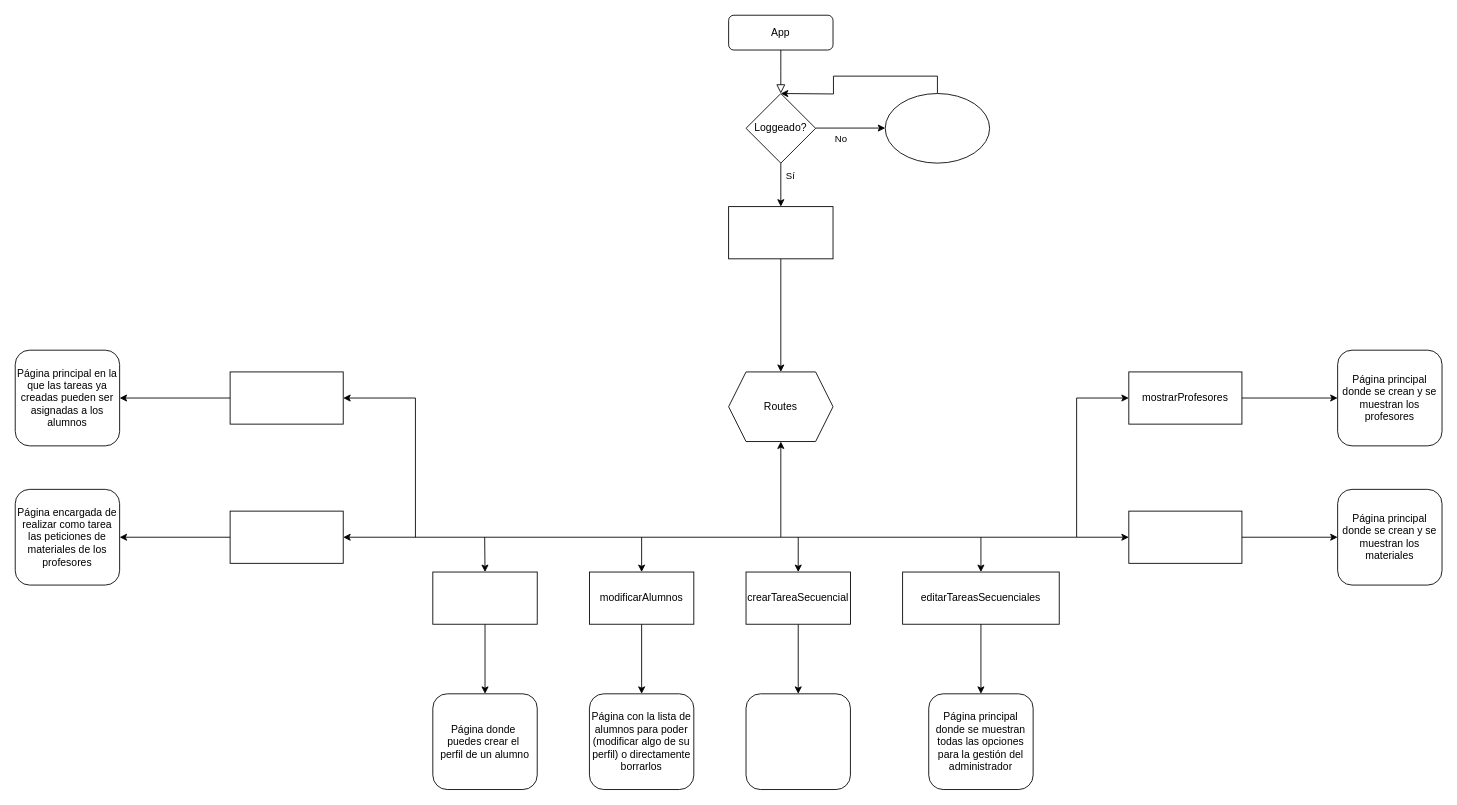
This 1457x805 diagram has some shape labels left out. Each missing label, with the box of its shape:
asignarTareasAlumnos: (229, 371, 343, 424)
crearAlumno: (432, 571, 537, 624)
mostrarMateriales: (1128, 510, 1242, 563)
peticionesProfesores: (229, 510, 343, 563)
Página de login: (884, 93, 990, 163)
Página dónde puedes crear una tarea por pasos: (745, 693, 850, 790)
vistaAdministrador: (728, 206, 833, 259)
